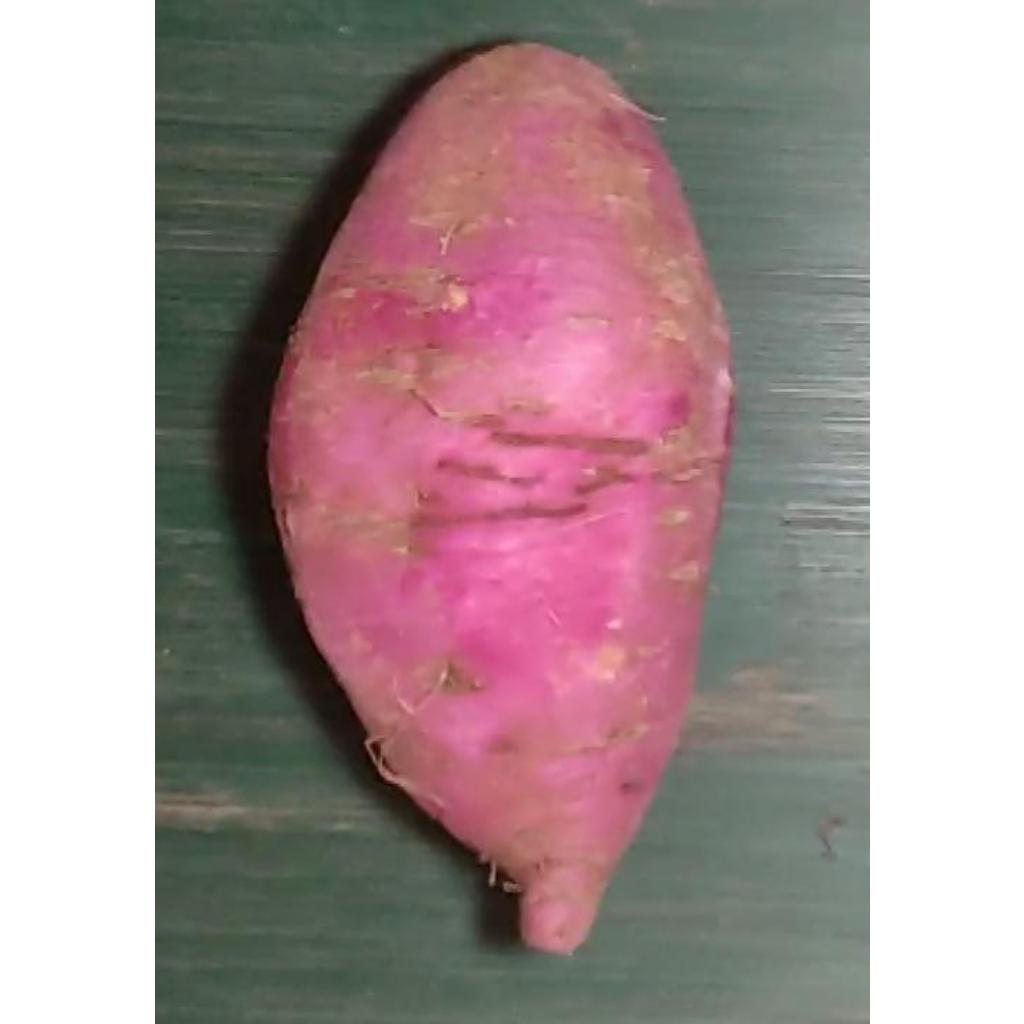Sweet Potato: (270, 43, 736, 960)
